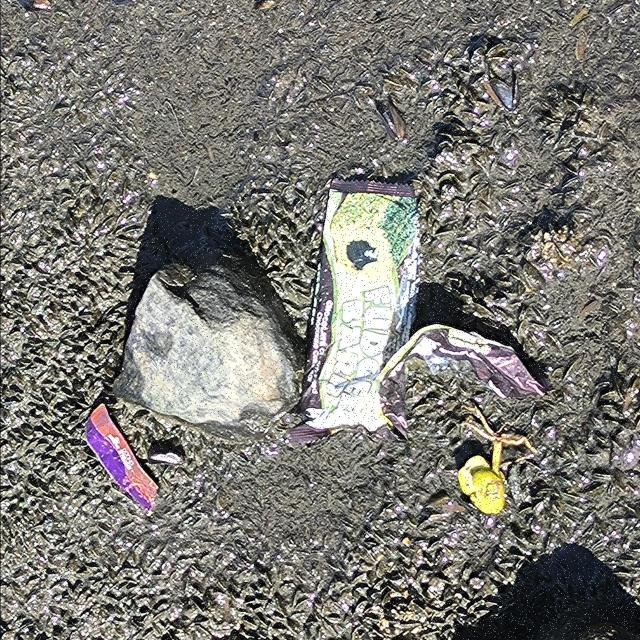plastic_waste: (289, 179, 422, 448), (83, 404, 159, 515)
